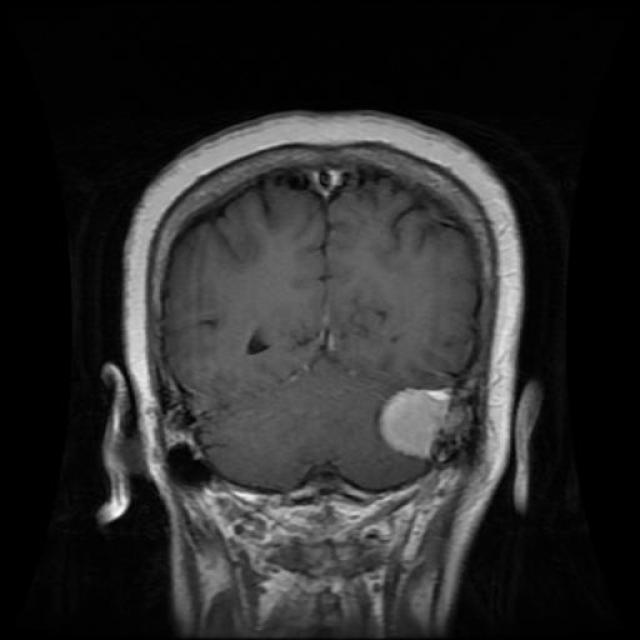meningioma: (380, 389, 452, 461)
